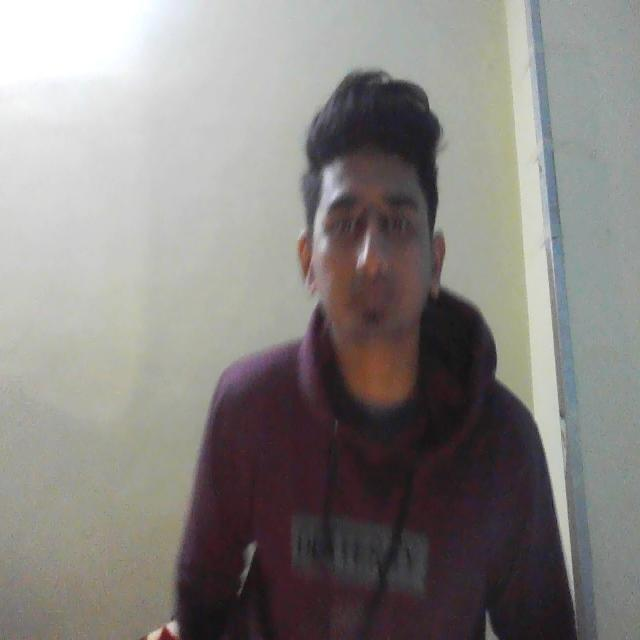real: (296, 72, 458, 377)
